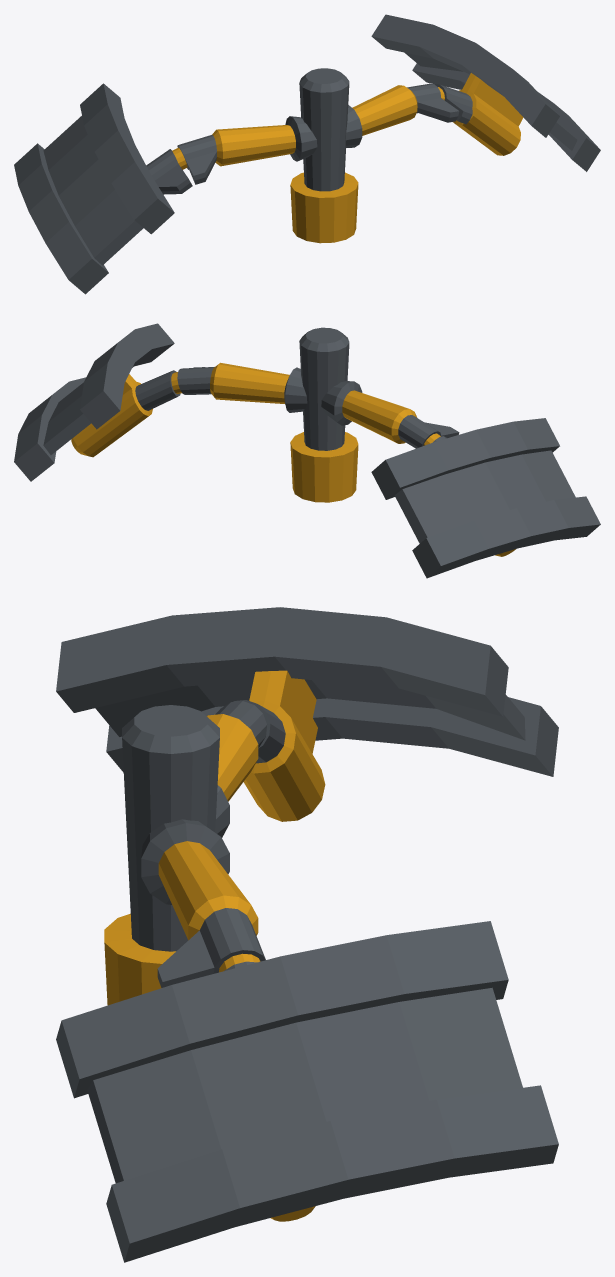
Rendered from Personal_Vehicle_04_Handle_Bard_Yellow.fbx.
3 views of the same model, one above another, from view 1: azimuth 30°, elevation 25°; view 2: azimuth 150°, elevation 25°; view 3: azimuth 270°, elevation 25° (orthographic). The views are drawn at different scales.
Parts seen in each view (by area): view 1: Personal_Vehicle_04_Handle_Bard_Yellow; view 2: Personal_Vehicle_04_Handle_Bard_Yellow; view 3: Personal_Vehicle_04_Handle_Bard_Yellow.
Boxes of the visible parts, x1,y1,x2,y2 form: Personal_Vehicle_04_Handle_Bard_Yellow: [14, 14, 600, 294]; Personal_Vehicle_04_Handle_Bard_Yellow: [14, 323, 600, 578]; Personal_Vehicle_04_Handle_Bard_Yellow: [56, 607, 558, 1262].
Size of the model in its own units: 73.53 by 20.29 by 30.07.
1 material, 1 textured.
